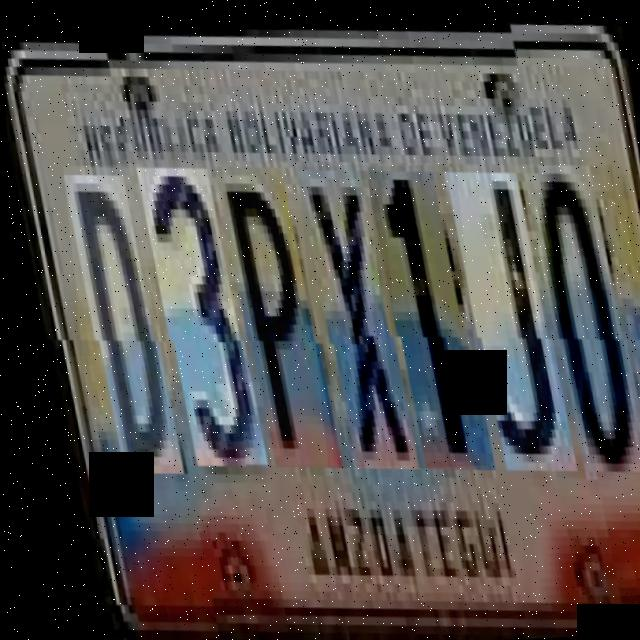1: (365, 161, 482, 468)
3: (136, 161, 254, 468)
D: (61, 162, 170, 468)
J: (444, 161, 563, 468)
O: (522, 162, 639, 477)
P: (213, 161, 329, 468)
X: (295, 161, 407, 469)
